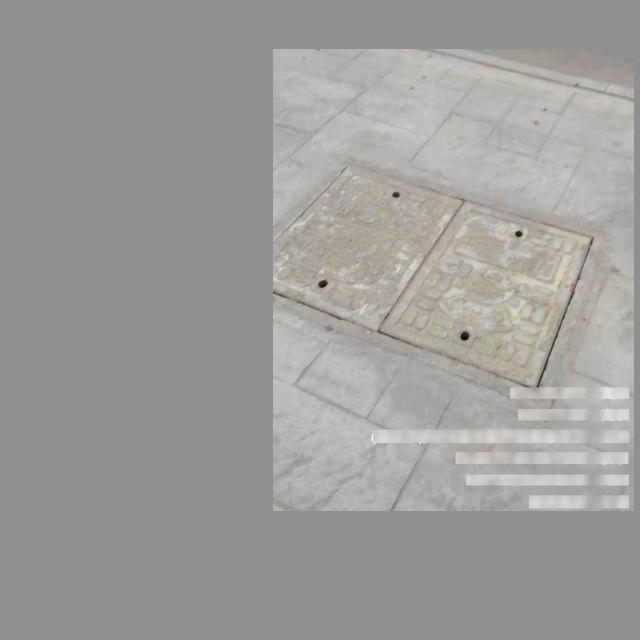good: (273, 158, 607, 400)
